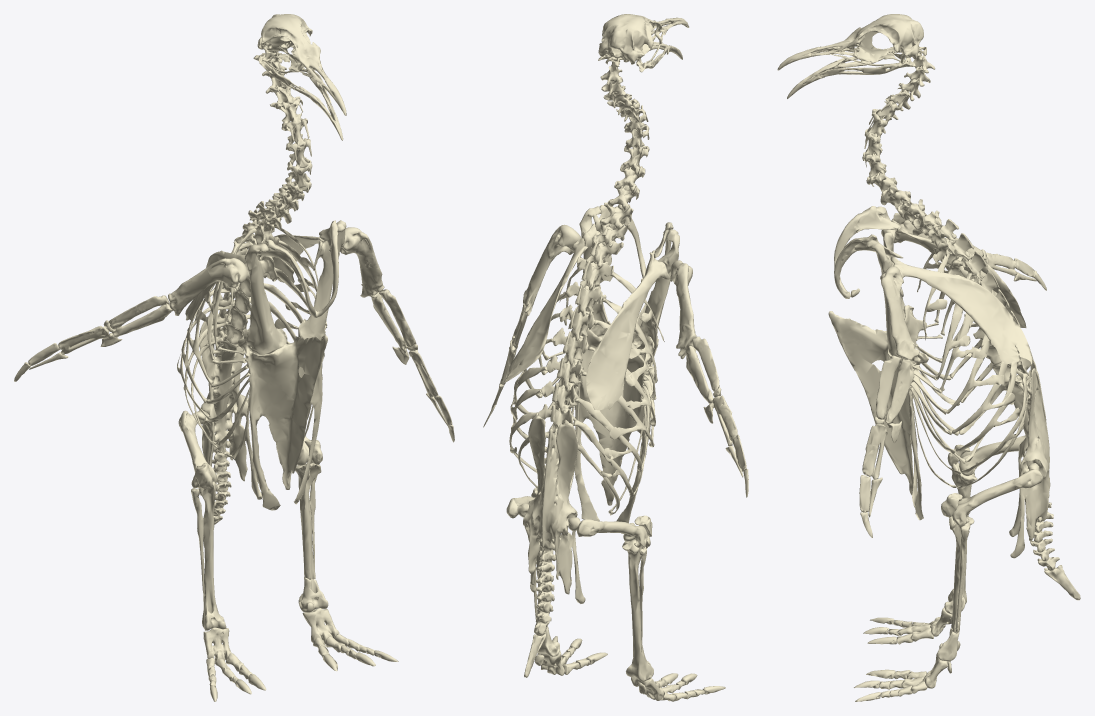
The model's file is emperor_penguin.glb.
The picture shows the model from 3 angles, left to right: view 1: azimuth 30°, elevation 25°; view 2: azimuth 150°, elevation 25°; view 3: azimuth 270°, elevation 25°; orthographic projection. The views are drawn at different scales.
Visible parts, largest first — view 1: Object_3; view 2: Object_3; view 3: Object_3.
Boxes of the visible parts, box(x1,y1,x2,y2) form: Object_3: box(14, 14, 454, 701); Object_3: box(483, 14, 748, 701); Object_3: box(777, 14, 1080, 701).
Bounding box in the file's own units: 490 × 872 × 373.
